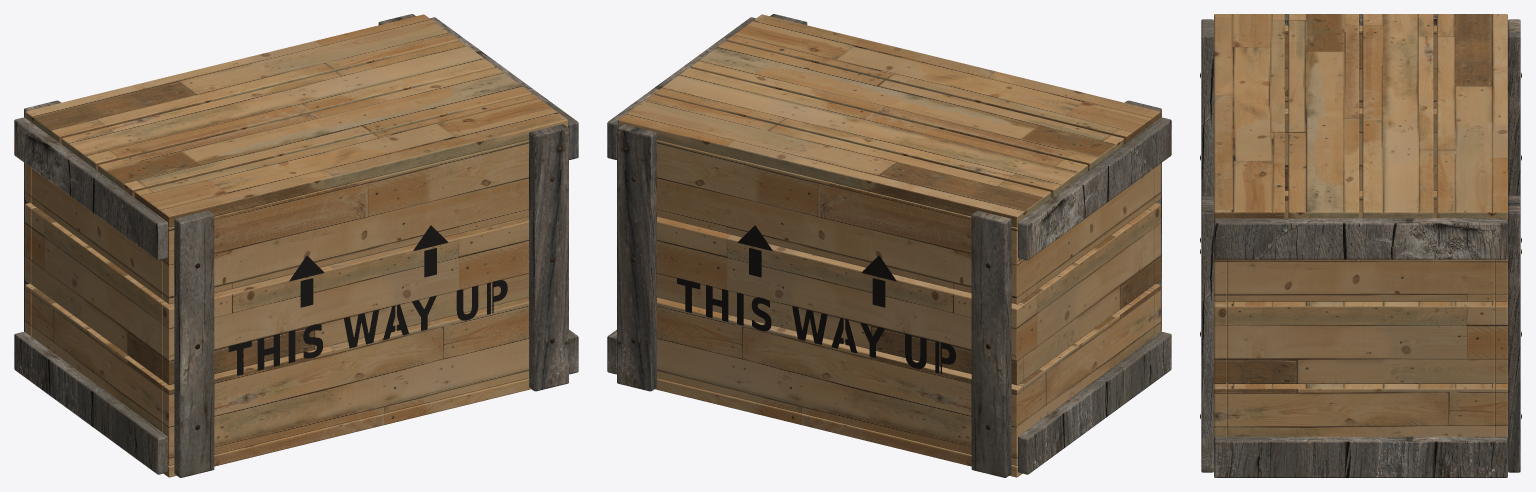
Rendered from crate-this-way-up.glb.
3 views of the same model, side by side, from view 1: azimuth 30°, elevation 25°; view 2: azimuth 150°, elevation 25°; view 3: azimuth 270°, elevation 25° (orthographic).
Parts seen in each view (by area): view 1: crate, stencil-front; view 2: crate, stencil-back; view 3: crate.
Boxes of the visible parts, <box> form: crate: <box>14,14,578,477</box>; stencil-front: <box>228,225,507,375</box>; crate: <box>607,14,1171,477</box>; stencil-back: <box>677,225,955,373</box>; crate: <box>1200,14,1521,477</box>.
Size of the model in its own units: 0.844 by 0.5 by 0.548.
Materials: 4 (4 with a texture image).
